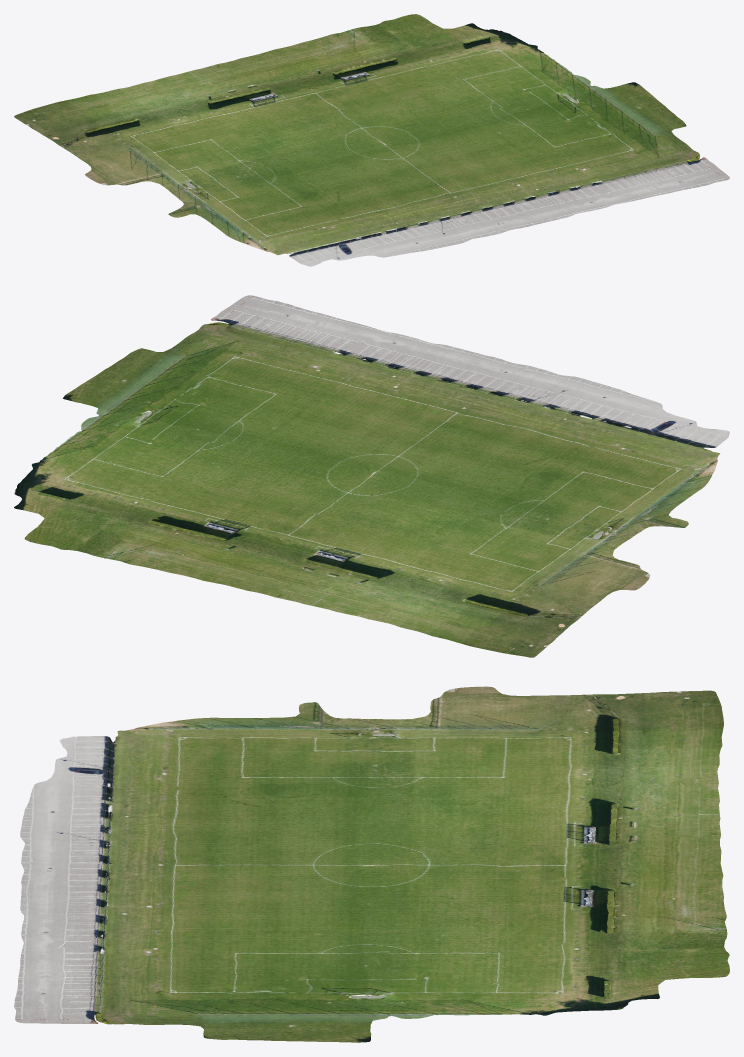
Rendered from SM_CommunityPitch.glb.
3 renders of one model, top to bottom at view 1: azimuth 30°, elevation 25°; view 2: azimuth 150°, elevation 25°; view 3: azimuth 270°, elevation 25°, orthographic. The views are drawn at different scales.
Visible parts, largest first — view 1: SM_CommunityPitch; view 2: SM_CommunityPitch; view 3: SM_CommunityPitch.
Part boxes in pixels (x1,y1,x2,y2): SM_CommunityPitch: (14, 14, 729, 266); SM_CommunityPitch: (14, 295, 729, 657); SM_CommunityPitch: (14, 686, 729, 1042).
Bounding box in the file's own units: 146 × 0.5 × 124.
1 material, 1 textured.
